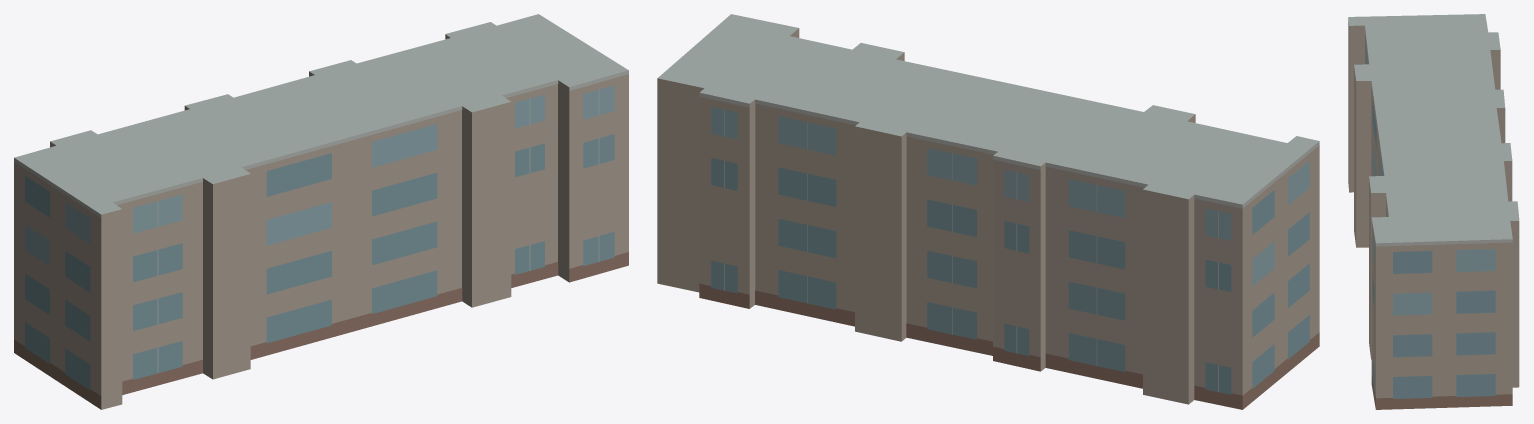
File: survey-upis-32758755.glb
3 views of the same model, side by side, from view 1: azimuth 30°, elevation 25°; view 2: azimuth 150°, elevation 25°; view 3: azimuth 270°, elevation 25° (orthographic). The views are drawn at different scales.
Parts seen in each view (by area): view 1: survey-upis-32758755.tmp; view 2: survey-upis-32758755.tmp; view 3: survey-upis-32758755.tmp.
Part boxes in pixels (x1=…): survey-upis-32758755.tmp: x1=14, y1=14, x2=628, y2=409; survey-upis-32758755.tmp: x1=657, y1=14, x2=1319, y2=409; survey-upis-32758755.tmp: x1=1348, y1=14, x2=1519, y2=409.
Bounding box in the file's own units: 36.9 × 12.5 × 11.64.
